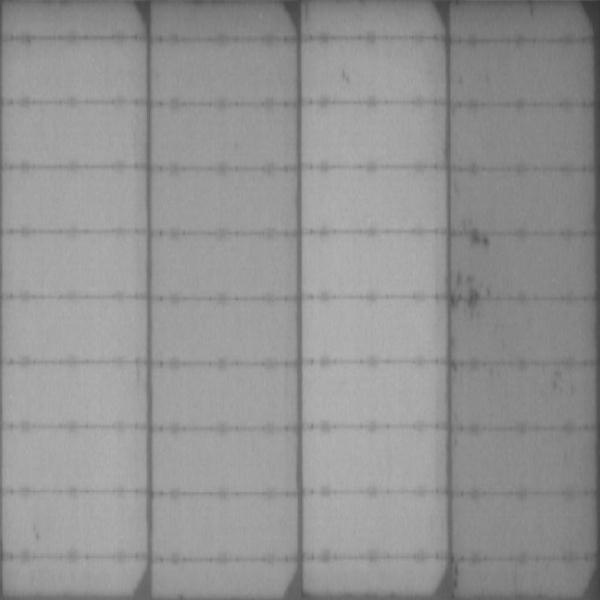scratch: (453, 272, 497, 317)
